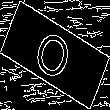O_SW: (31, 22, 79, 88)
